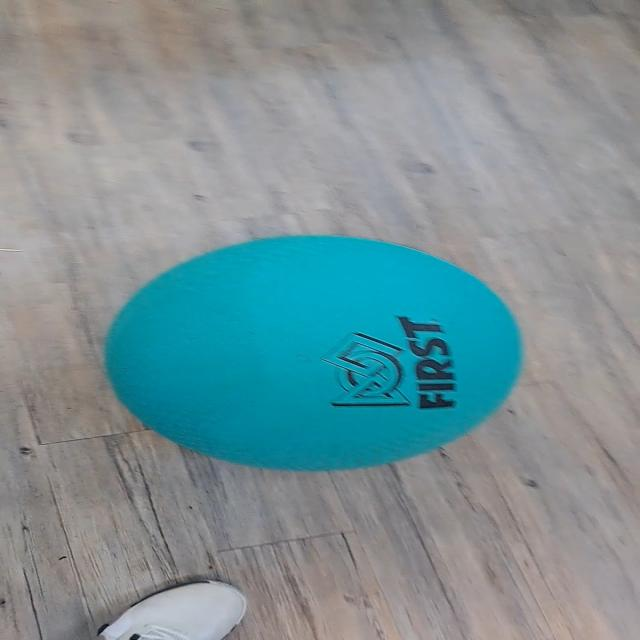ALGAE: (100, 233, 526, 473)
